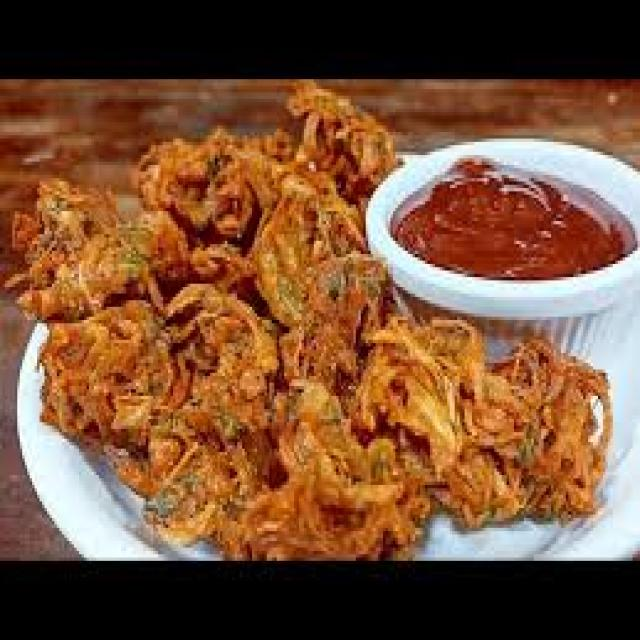BAJI: (27, 96, 609, 553)
